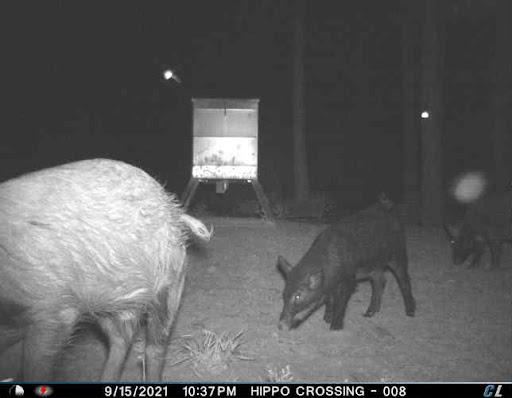Hog: (2, 154, 212, 385), (273, 193, 420, 341), (446, 205, 512, 276)
